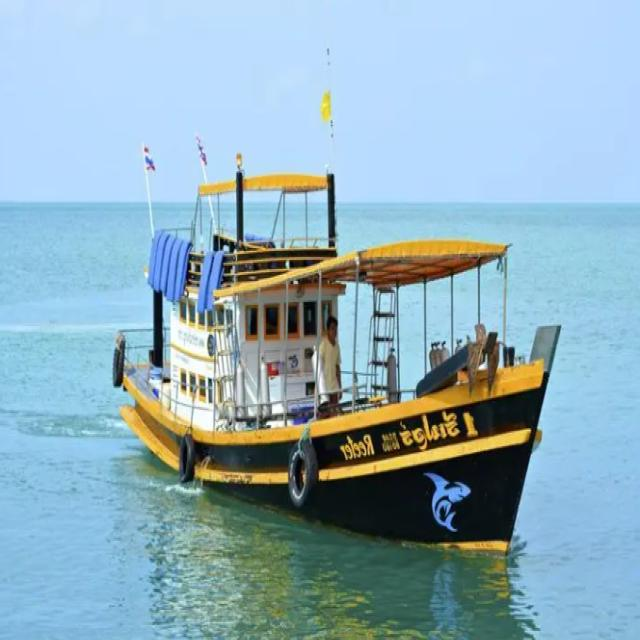fishing boat: (109, 156, 561, 546)
